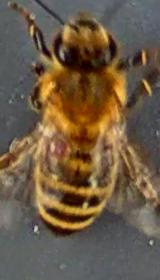varroa_mite: (43, 132, 69, 161)
